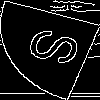S: (25, 25, 94, 72)
